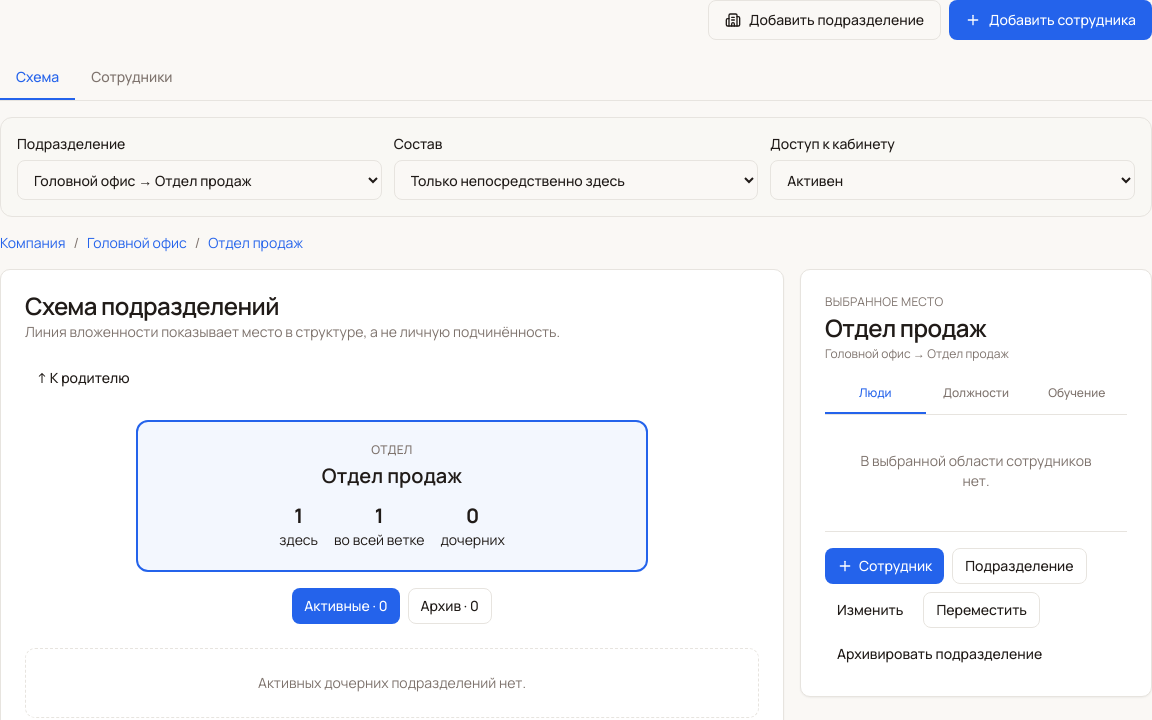
Test: StaffWorkspace › shows safe hierarchy-cycle guidance from the canonical API error envelope
The width and height of the screenshot is (1152, 720).
Click the button "Переместить". click: (982, 610)
box: [923,592,1040,628]
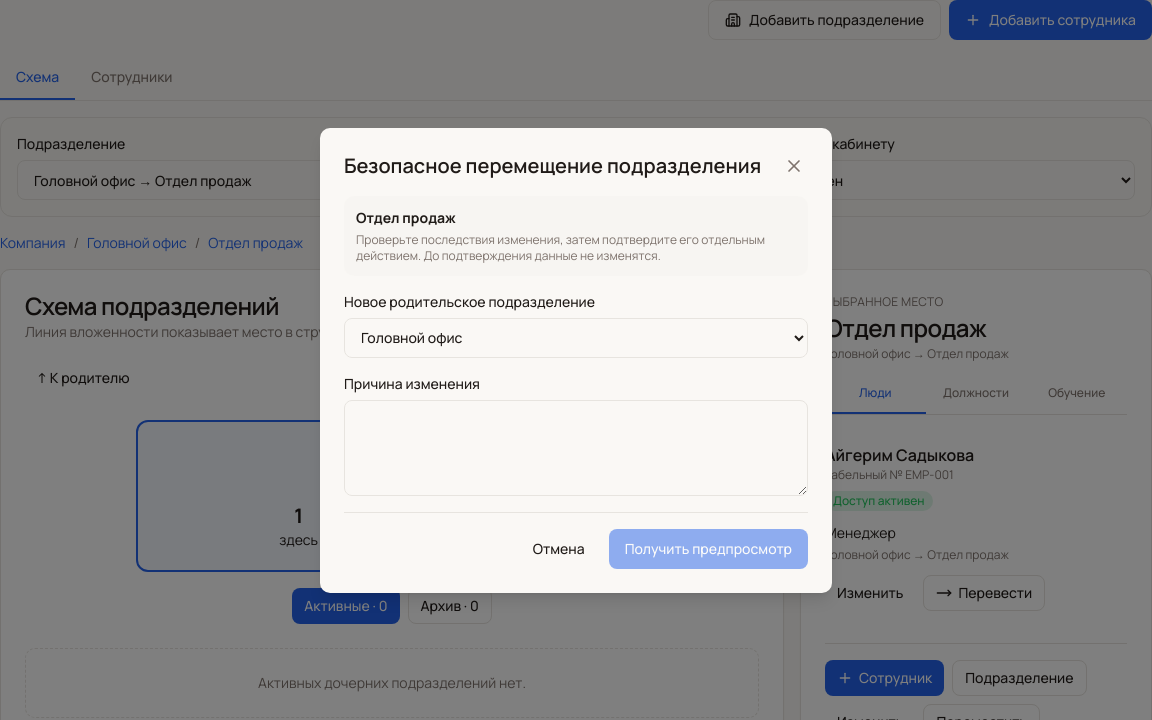
Type "Проверка цикла" into the text box labelled "Причина изменения". click: (576, 448)
box: [344,400,808,496]
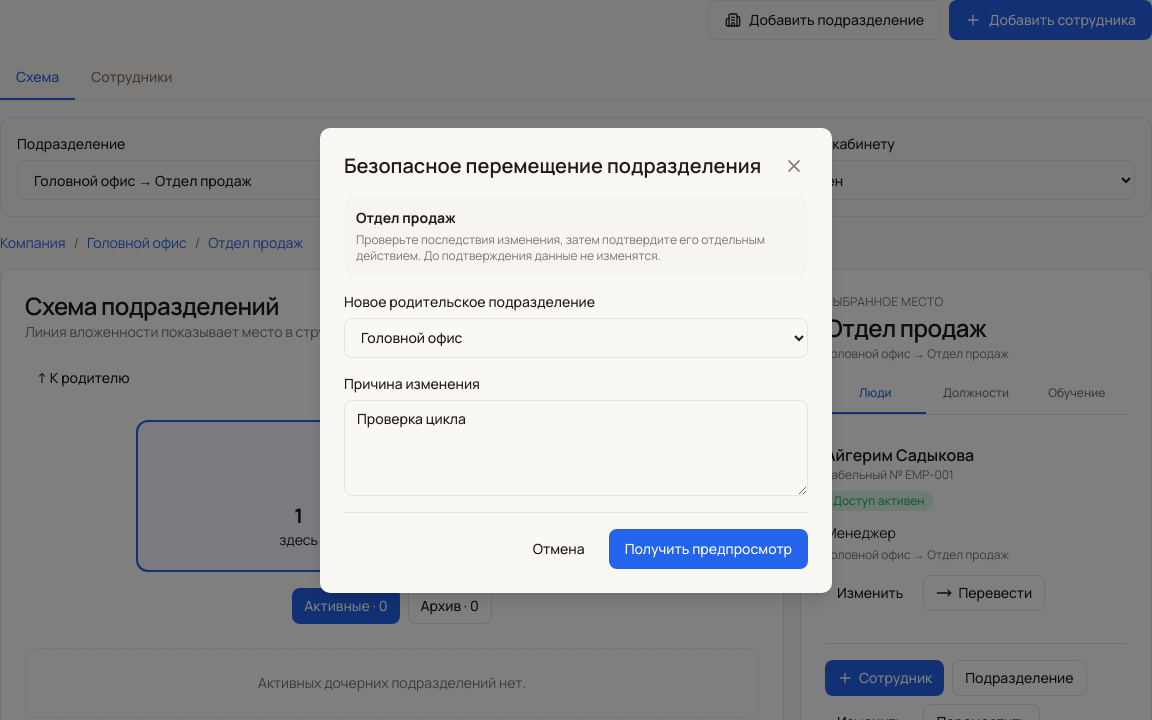
Click the button "Получить предпросмотр". click: (708, 548)
box: [609,528,808,568]
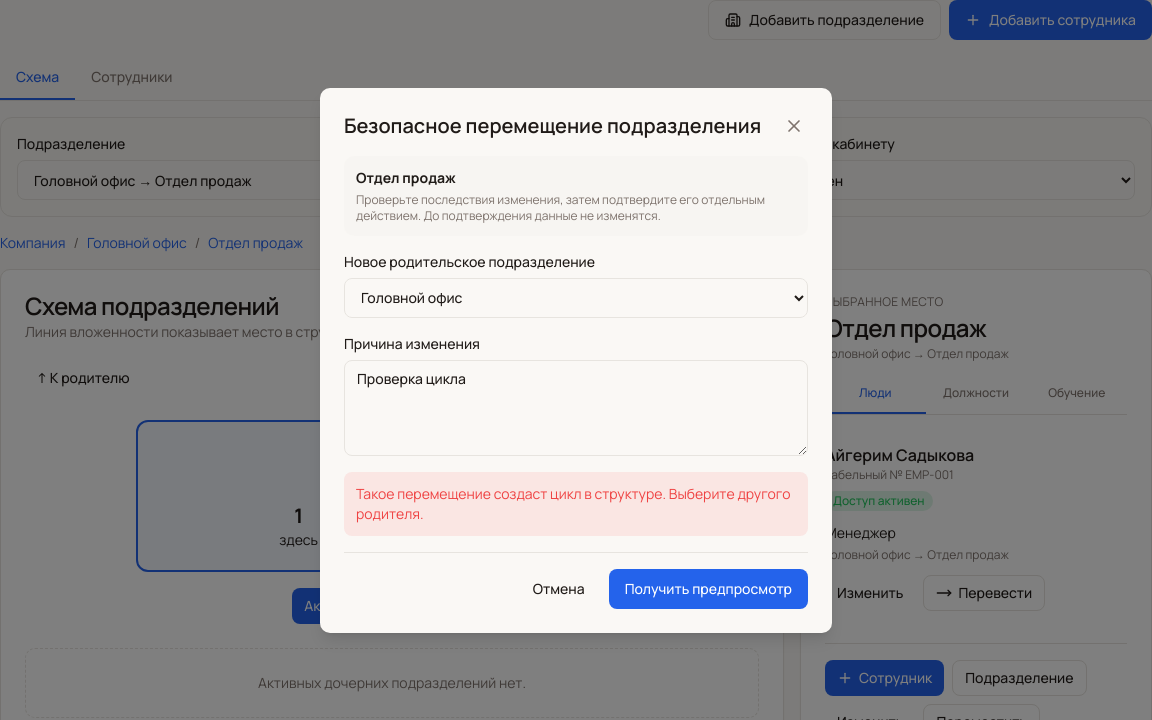
Now the text "Такое перемещение создаст цикл в структуре. Выберите другого родителя." is shown, box [344,472,808,536]
